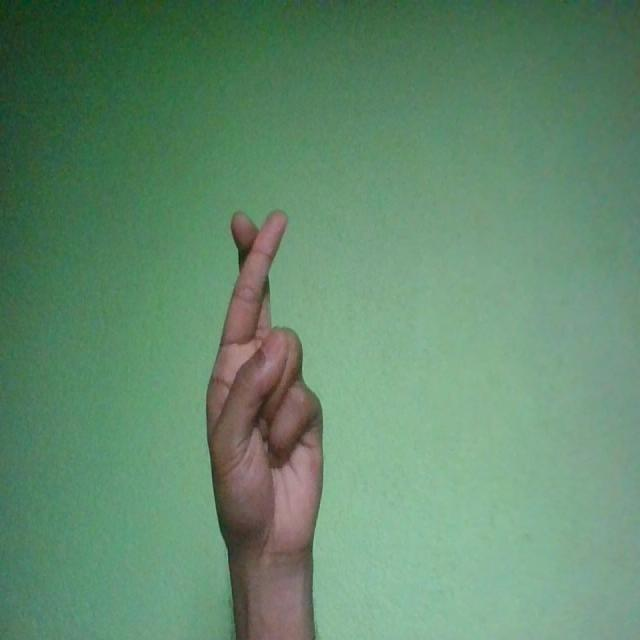Ok: (207, 210, 326, 572)
